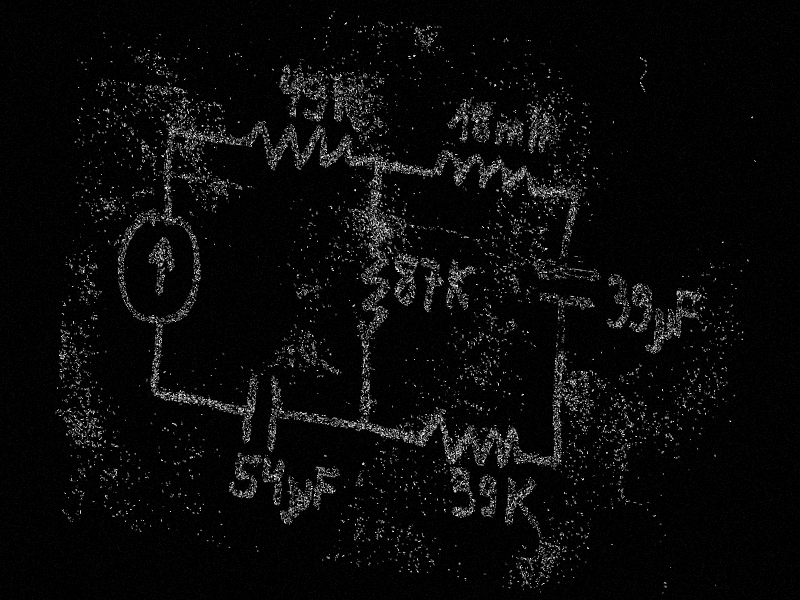1: (444, 97, 472, 144)
3: (444, 464, 479, 524), (603, 270, 633, 335)
4: (276, 62, 304, 121), (259, 453, 286, 509)
5: (228, 447, 263, 502)
7: (415, 256, 446, 314)
8: (389, 250, 421, 307), (469, 102, 493, 146)
9: (626, 280, 655, 337), (300, 72, 328, 125), (475, 473, 501, 522)
F: (672, 285, 701, 344), (311, 465, 339, 515)
H: (525, 106, 549, 157)
k: (329, 73, 370, 135), (502, 474, 542, 533), (445, 258, 475, 315)
m: (493, 117, 524, 151)
u: (281, 474, 313, 529), (650, 307, 676, 357)
